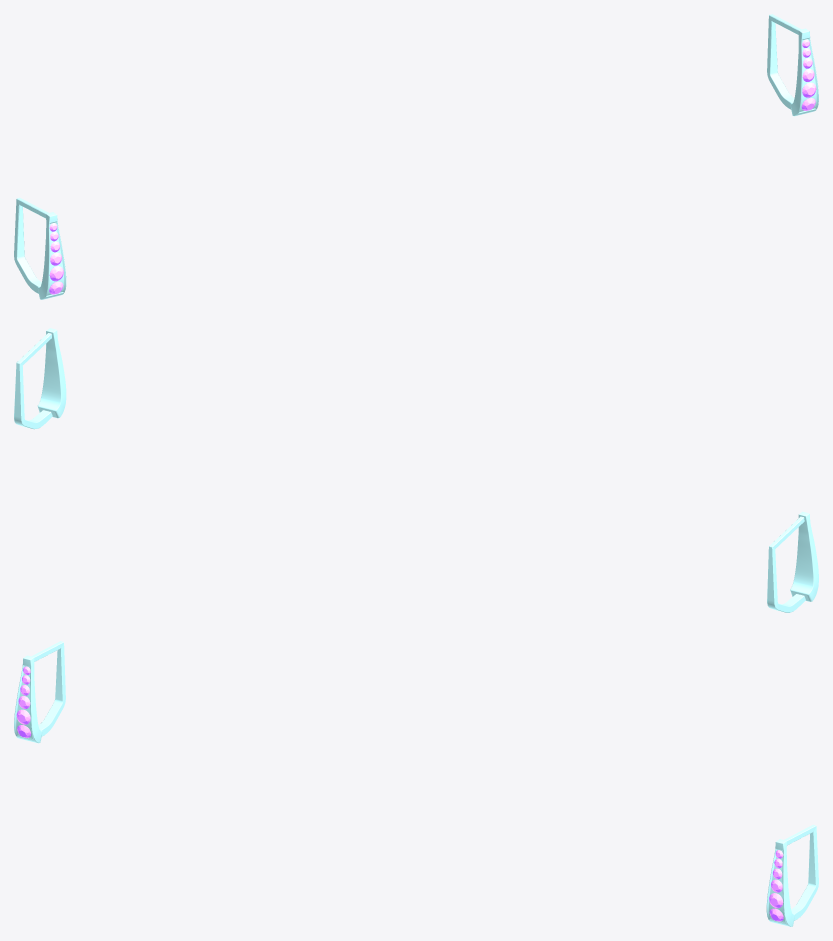
Rendered from jewelry_sparkling_hoopdrop_silver.glb.
The picture shows the model from 3 angles, top to bottom: view 1: azimuth 30°, elevation 25°; view 2: azimuth 150°, elevation 25°; view 3: azimuth 330°, elevation 25°; orthographic projection.
Parts seen in each view (by area): view 1: jewelry_sparkling_hoopdrop_silver; view 2: jewelry_sparkling_hoopdrop_silver; view 3: jewelry_sparkling_hoopdrop_silver.
Boxes of the visible parts, x1,y1,x2,y2 form: jewelry_sparkling_hoopdrop_silver: (14, 14, 818, 299); jewelry_sparkling_hoopdrop_silver: (14, 328, 818, 612); jewelry_sparkling_hoopdrop_silver: (14, 641, 818, 926).
Bounding box in the file's own units: 0.3441 × 0.0366 × 0.0315.
